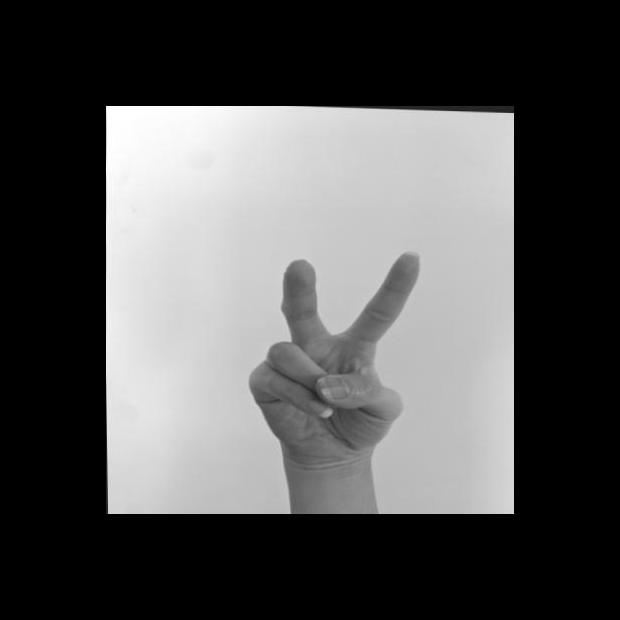U: (240, 239, 428, 468)
